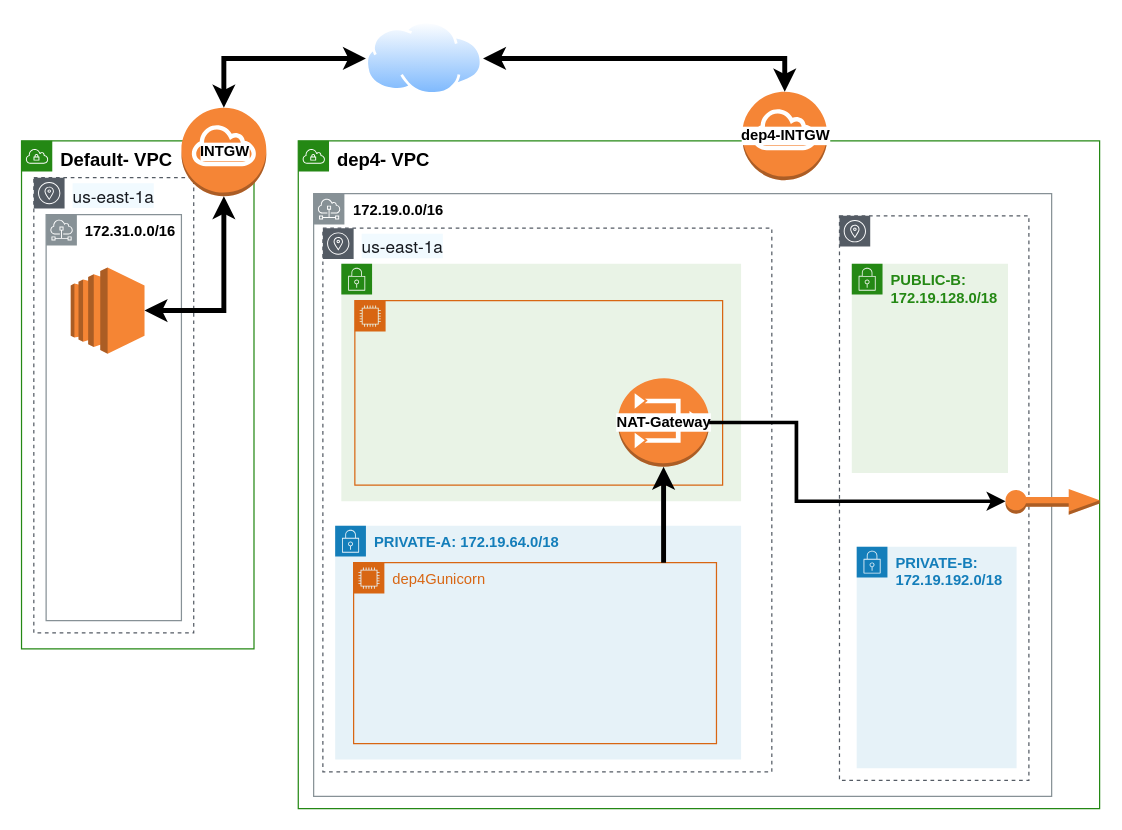
The diagram is 1122 pixels wide and 830 high, and some of its shapes have lost their labels. The box of each missing label's shape, as (x1, y1, x2, y2) in pixels:
dep4Nginx: (354, 300, 723, 485)
elastic-ip: (1004, 488, 1100, 515)
INTERNET: (365, 21, 482, 95)
Jenkins Server: (69, 266, 145, 354)
PUBLIC-A: 172.19.0.0/18: (340, 263, 741, 501)
us-east-1b: (838, 215, 1029, 780)
